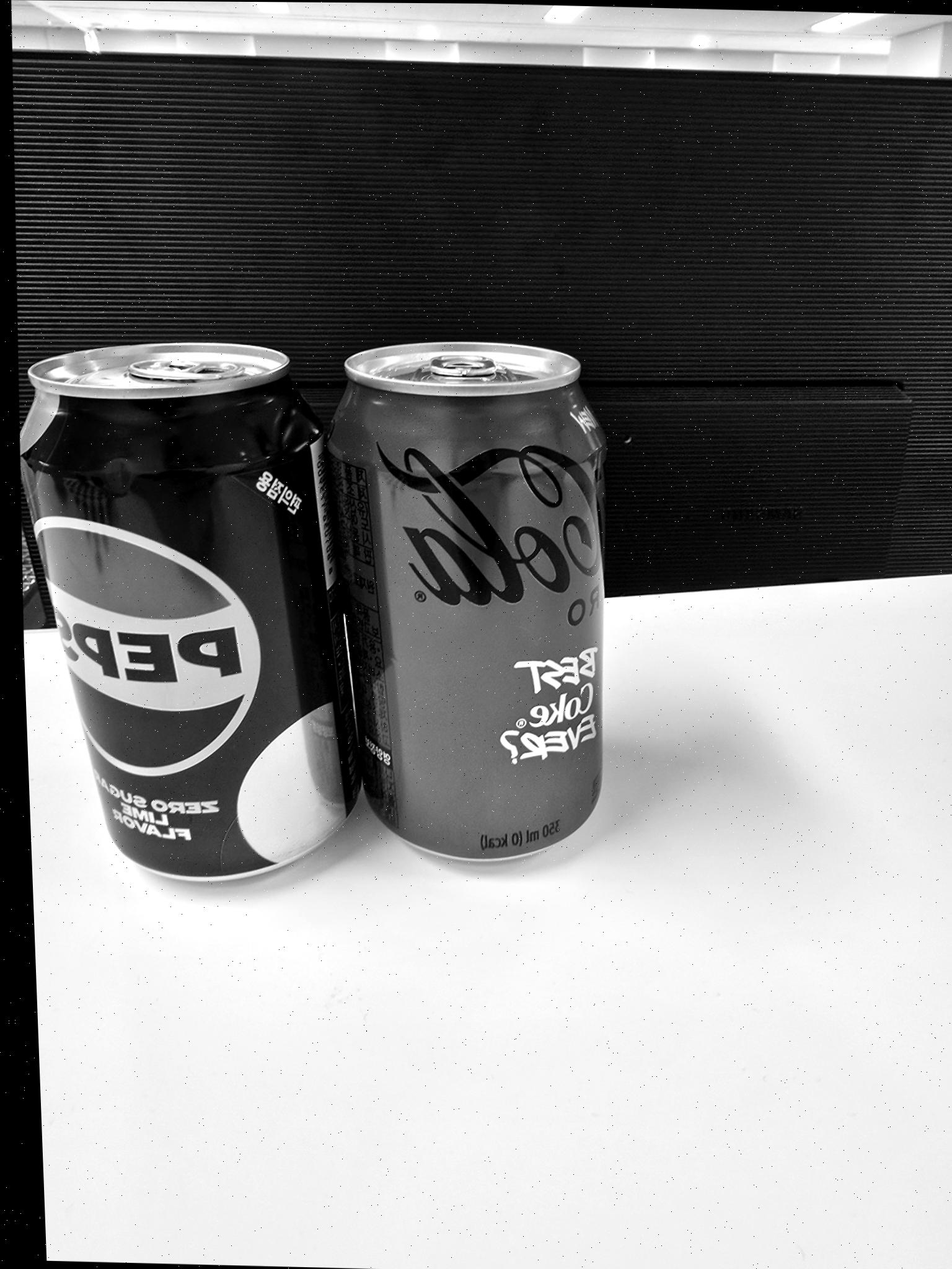can_coke_zero: (313, 341, 625, 856)
can_pepsi_zero: (21, 337, 355, 882)
